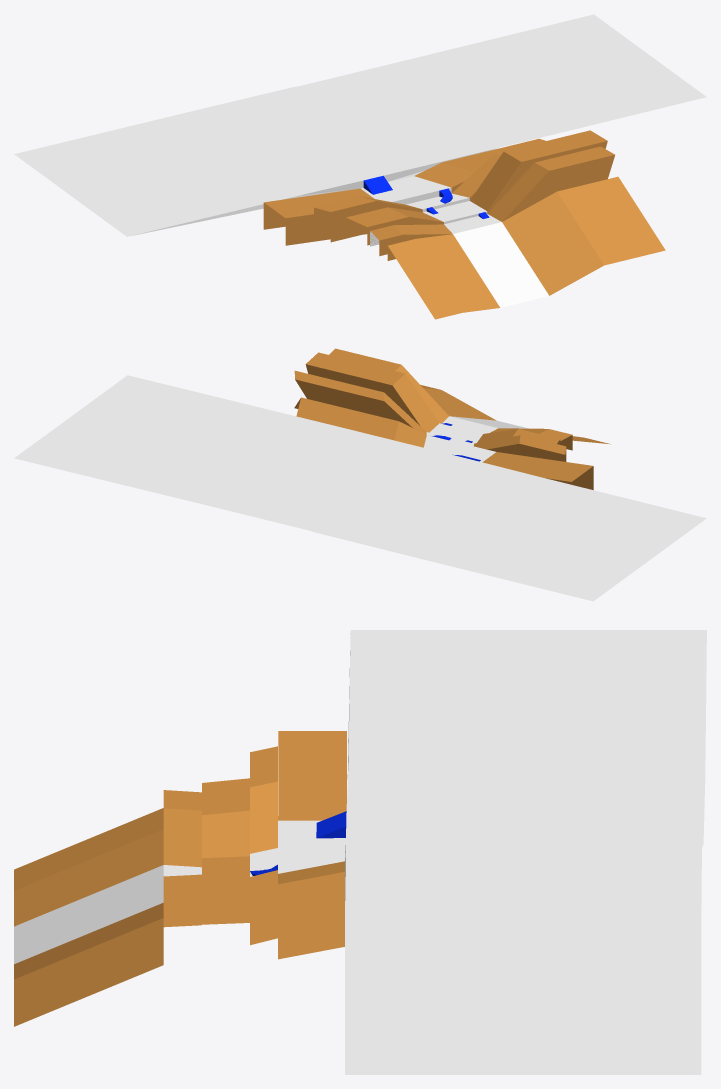
File: escenarioF.FBX
3 views of the same model, one above another, from view 1: azimuth 30°, elevation 25°; view 2: azimuth 150°, elevation 25°; view 3: azimuth 270°, elevation 25° (orthographic). The views are drawn at different scales.
Parts seen in each view (by area): view 1: escenario; view 2: escenario; view 3: escenario.
Boxes of the visible parts, <box> form: escenario: <box>14,14,706,319</box>; escenario: <box>14,348,706,601</box>; escenario: <box>14,630,706,1074</box>.
Size of what is drawn, in the model's own units: 31384 by 4406 by 20660.
